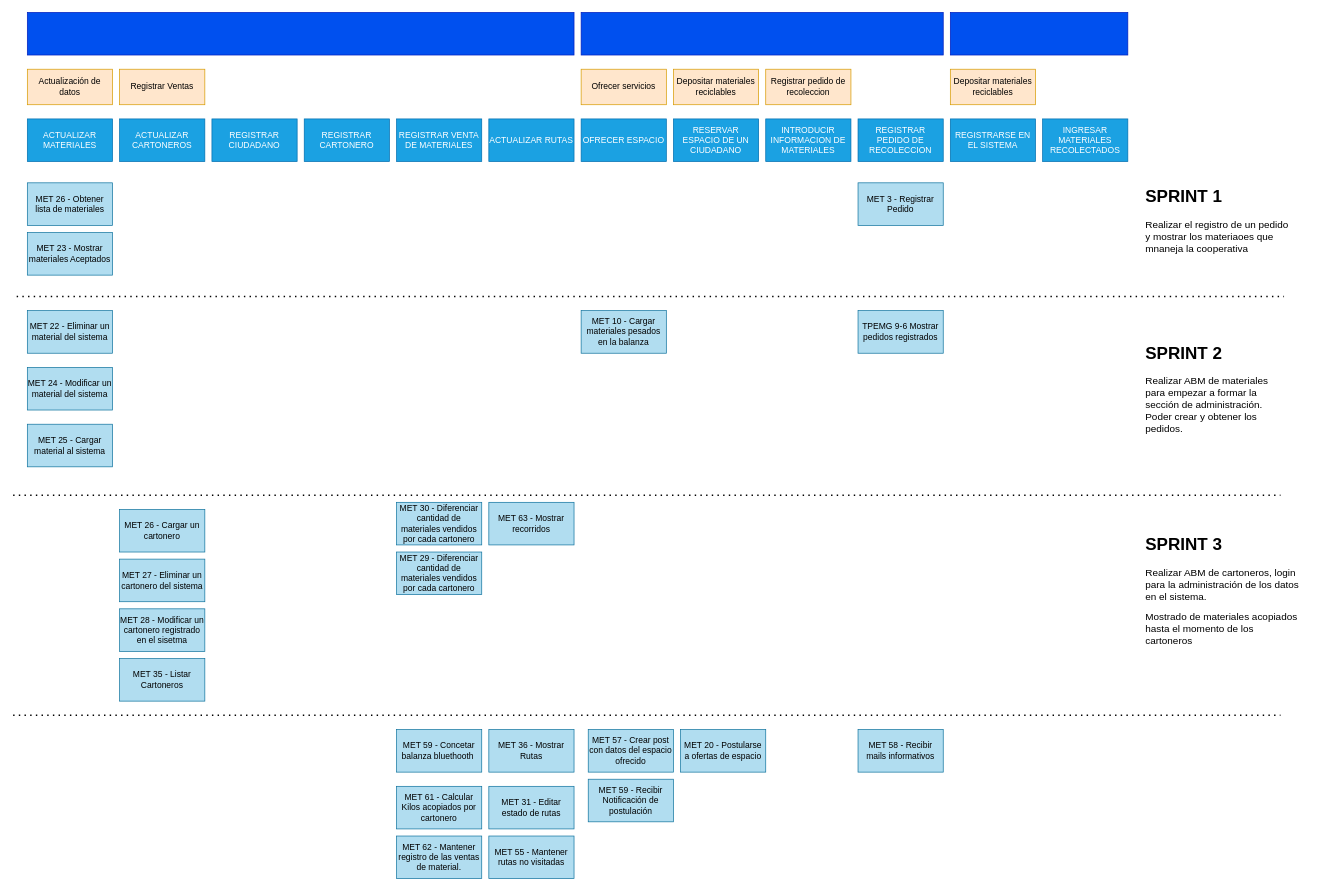
This 1317x891 diagram has some shape labels left out. The centre of each missing label's shape, as x and y in pixels:
CARTONERO: (1039,33)
CIUDADANO: (761,33)
RESPONSABLE DE LA COOPERATIVA: (300,33)
